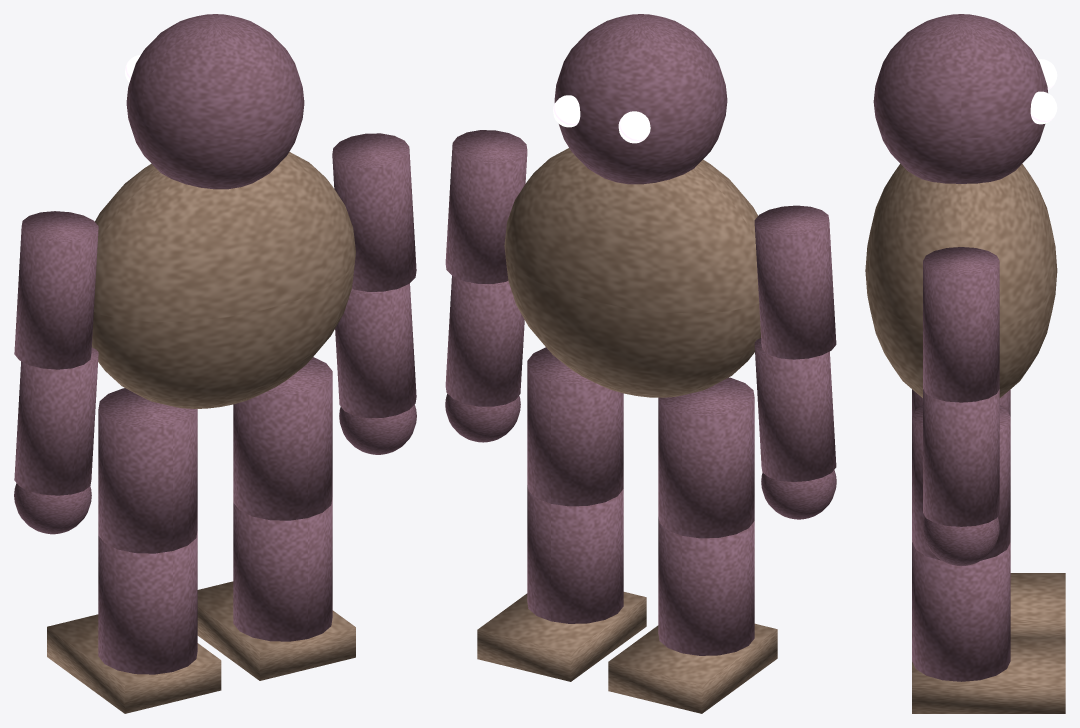
File: storm-elemental.glb
3 renders of one model, left to right at view 1: azimuth 30°, elevation 25°; view 2: azimuth 150°, elevation 25°; view 3: azimuth 270°, elevation 25°, orthographic. The views are drawn at different scales.
Visible parts, largest first — view 1: Torso, Head, ThighL, ThighR, ShinR, ShinL, UpperArmL, UpperArmR, ForearmL, ForearmR, FootL, FootR (+2 smaller); view 2: Torso, Head, ThighL, ThighR, ShinR, ShinL, UpperArmL, UpperArmR, ForearmL, ForearmR, FootL, FootR (+4 smaller); view 3: Torso, Head, ShinR, UpperArmR, ForearmR, FootR, FootL, ThighR, HandR, Eye.001, ThighL, Eye.
Boxes of the visible parts, left/top/right/bottom form: Torso: left=92, top=152, right=355, bottom=408; Head: left=126, top=14, right=304, bottom=189; ThighL: left=98, top=388, right=197, bottom=553; ThighR: left=233, top=357, right=332, bottom=520; ShinR: left=233, top=497, right=332, bottom=641; ShinL: left=98, top=531, right=197, bottom=674; UpperArmL: left=14, top=211, right=98, bottom=369; UpperArmR: left=332, top=133, right=416, bottom=291; ForearmL: left=14, top=347, right=98, bottom=495; ForearmR: left=335, top=283, right=416, bottom=418; FootL: left=47, top=614, right=221, bottom=713; FootR: left=197, top=581, right=355, bottom=680; Torso: left=504, top=148, right=760, bottom=397; Head: left=554, top=14, right=727, bottom=184; ThighL: left=658, top=377, right=754, bottom=538; ThighR: left=527, top=347, right=623, bottom=506; ShinR: left=527, top=485, right=623, bottom=623; ShinL: left=658, top=517, right=754, bottom=655; UpperArmL: left=754, top=205, right=836, bottom=359; UpperArmR: left=445, top=130, right=527, bottom=283; ForearmL: left=754, top=338, right=836, bottom=481; ForearmR: left=445, top=276, right=524, bottom=406; FootL: left=608, top=623, right=777, bottom=713; FootR: left=477, top=592, right=646, bottom=681; Torso: left=865, top=163, right=1057, bottom=397; Head: left=873, top=14, right=1047, bottom=183; ShinR: left=912, top=542, right=1010, bottom=681; UpperArmR: left=923, top=247, right=999, bottom=402; ForearmR: left=923, top=389, right=999, bottom=526; FootR: left=912, top=637, right=1065, bottom=713; FootL: left=1010, top=573, right=1065, bottom=637; ThighR: left=912, top=405, right=1010, bottom=560; HandR: left=923, top=517, right=999, bottom=566; Eye.001: left=1030, top=91, right=1057, bottom=124; ThighL: left=912, top=389, right=1010, bottom=416; Eye: left=1038, top=59, right=1057, bottom=89.
Size of the model in its own units: 0.6367 by 1 by 0.2852.
3 materials, 2 textured.
